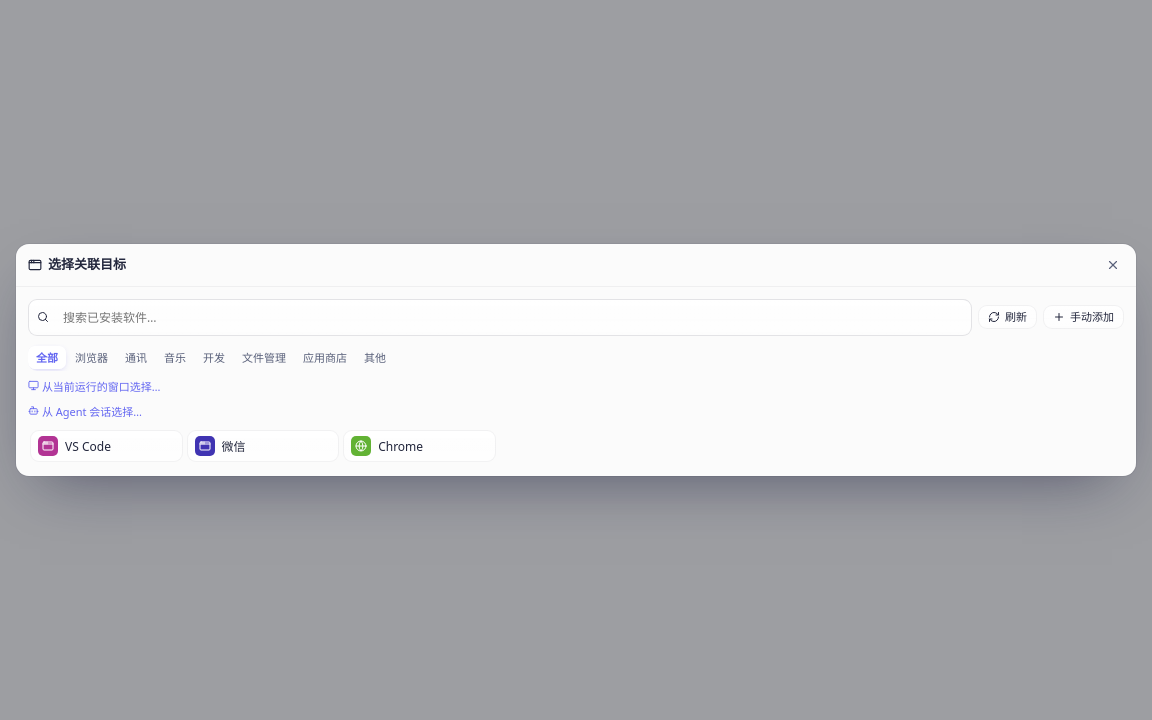
AppPicker › 窗口身份记录失败时显示错误并保留选择器，便于重试
Click the button "从当前运行的窗口选择…": (94, 387) [28,379,161,395]
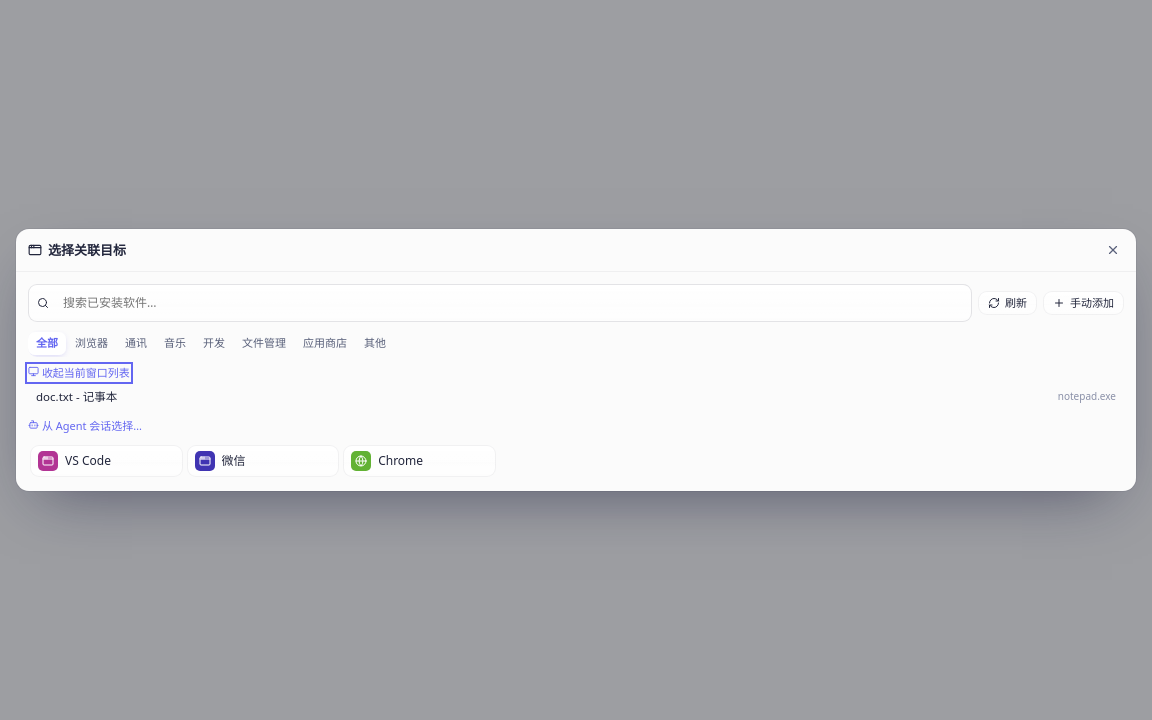
Click the button "doc.txt - 记事本 notepad.exe": (77, 397) [28,385,1124,410]
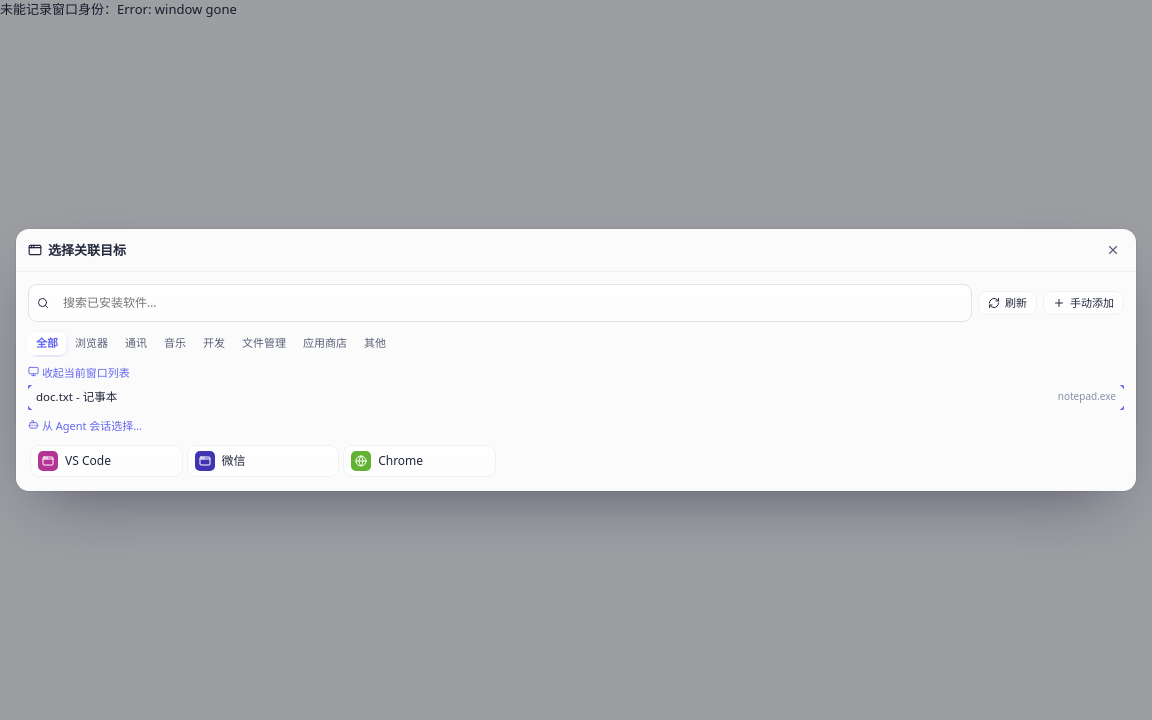
expect the text with test id "toast" shows "window gone": met, box [0,0,237,18]
expect the text with test id "toast" shows "未能记录窗口身份": met, box [0,0,237,18]
